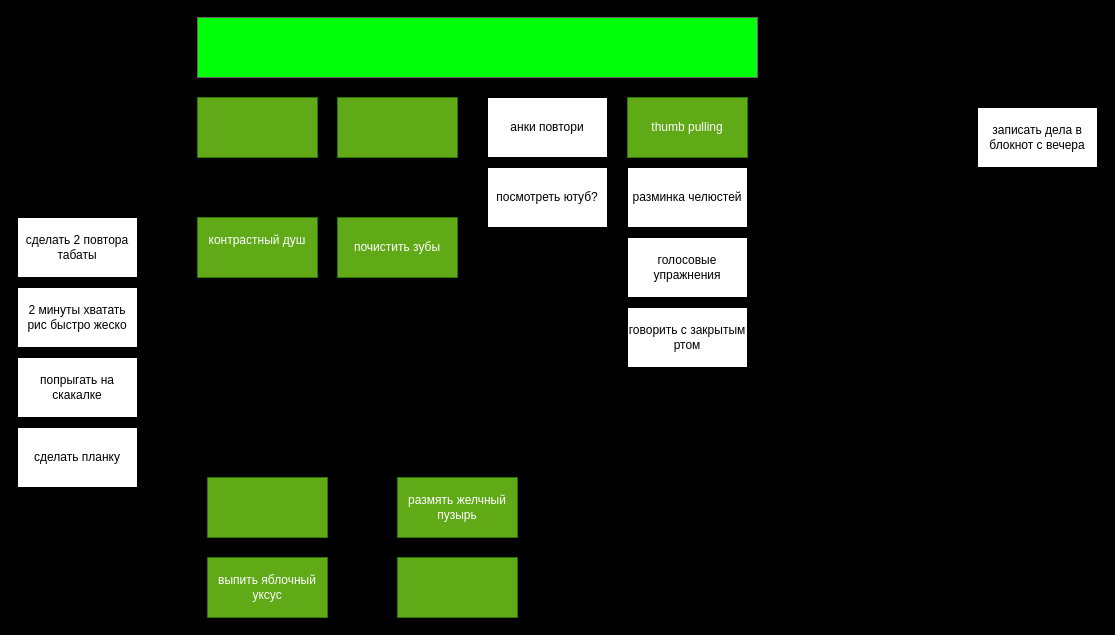
Image size: 1115x635. Some labels were removed from this diagram. The shapes that lost their labels are listed below. From the top down, each one's centre as x and y in pixels, then its label:
the point at 477,47: что можно сделать утром?
the point at 257,127: пройти 77 ккал на дорожке
the point at 397,127: oil pulling
the point at 267,507: сделать вакуум
the point at 457,587: сварить покушать
